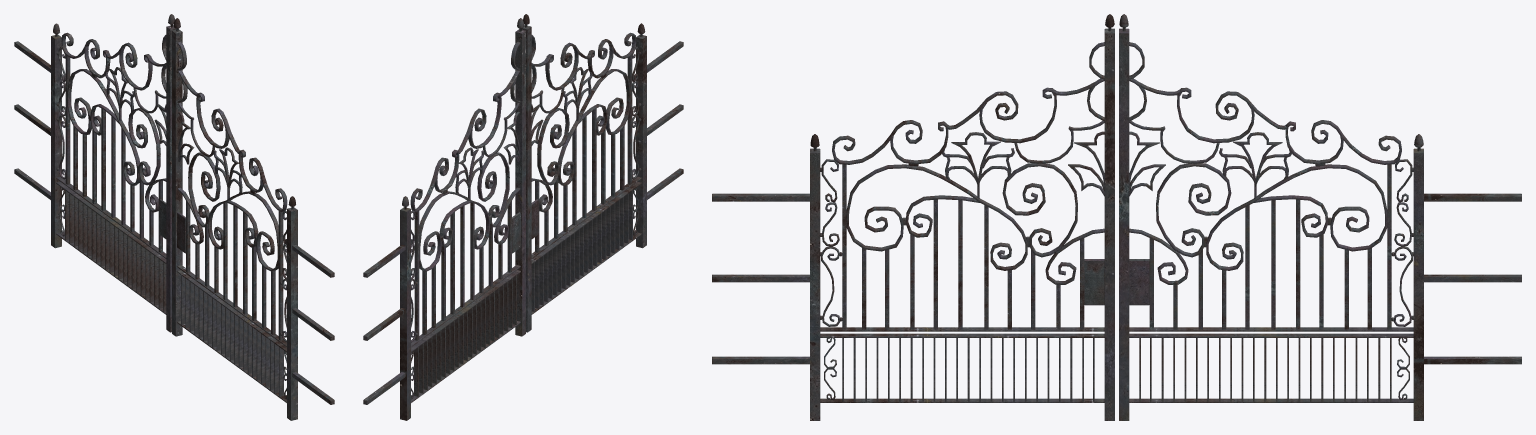
The model's file is SM_Gate.FBX.
3 views of the same model, side by side, from view 1: azimuth 30°, elevation 25°; view 2: azimuth 150°, elevation 25°; view 3: azimuth 270°, elevation 25° (orthographic). The views are drawn at different scales.
Parts seen in each view (by area): view 1: SM_Gate_LOD0; view 2: SM_Gate_LOD0; view 3: SM_Gate_LOD0.
Boxes of the visible parts, box(x1,y1,x2,y2) form: SM_Gate_LOD0: box(14, 14, 334, 420); SM_Gate_LOD0: box(363, 14, 683, 420); SM_Gate_LOD0: box(712, 14, 1521, 420).
Size of what is drawn, in the model's own units: 5.03 by 218 by 396.
